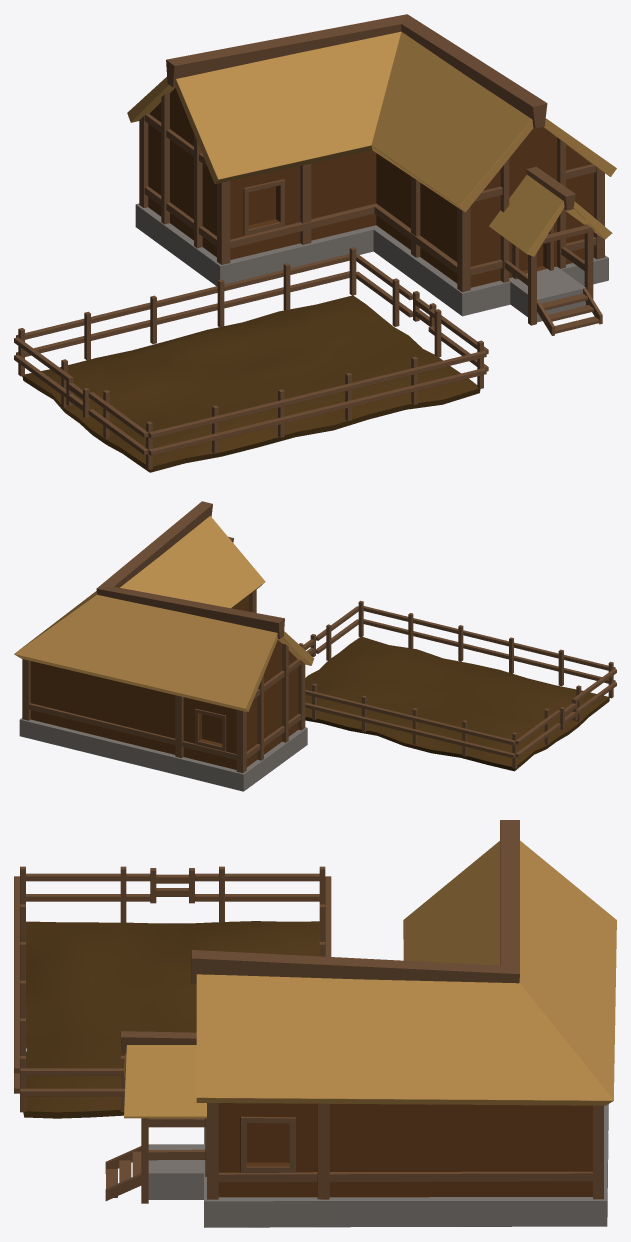
File: Greed_Farm.fbx
The picture shows the model from 3 angles, top to bottom: view 1: azimuth 30°, elevation 25°; view 2: azimuth 150°, elevation 25°; view 3: azimuth 270°, elevation 25°; orthographic projection. The views are drawn at different scales.
Parts seen in each view (by area): view 1: Farm_House, Field, Field_Fences; view 2: Farm_House, Field, Field_Fences; view 3: Farm_House, Field, Field_Fences.
Part boxes in pixels (<box>): Farm_House: <box>127,14,616,335</box>; Field: <box>22,295,480,472</box>; Field_Fences: <box>14,247,488,469</box>; Farm_House: <box>14,501,314,791</box>; Field: <box>305,637,609,771</box>; Field_Fences: <box>299,600,616,768</box>; Farm_House: <box>105,820,616,1227</box>; Field: <box>23,921,319,1118</box>; Field_Fences: <box>14,866,331,1112</box>.
Bounding box in the file's own units: 25.07 × 8.96 × 20.25.
